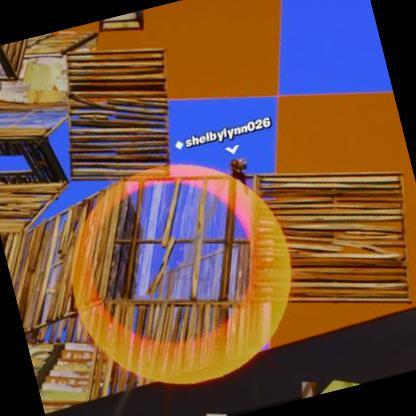person: (221, 153, 261, 195)
